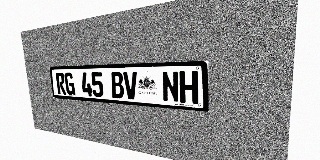4: (80, 72, 93, 97)
5: (91, 72, 104, 97)
B: (110, 72, 124, 99)
G: (64, 72, 75, 95)
H: (179, 71, 198, 104)
N: (161, 71, 179, 103)
R: (55, 73, 66, 95)
V: (123, 72, 138, 100)
